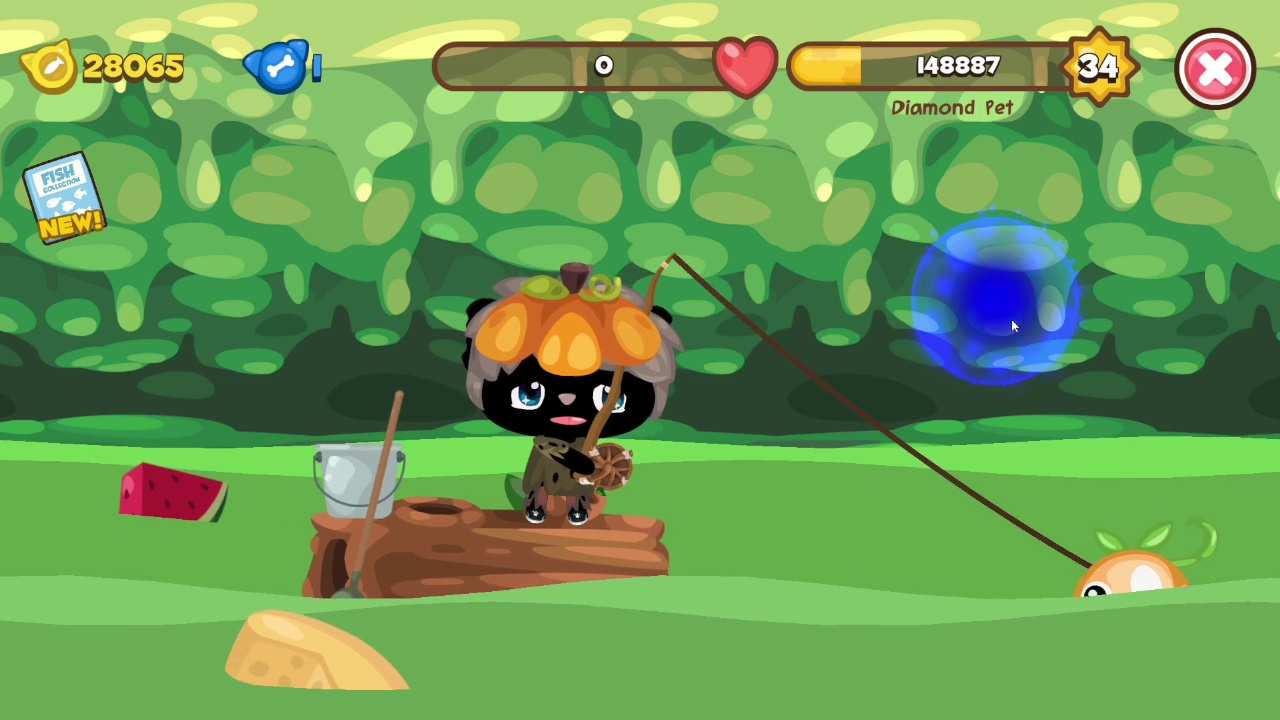point: (911, 216, 1083, 388)
